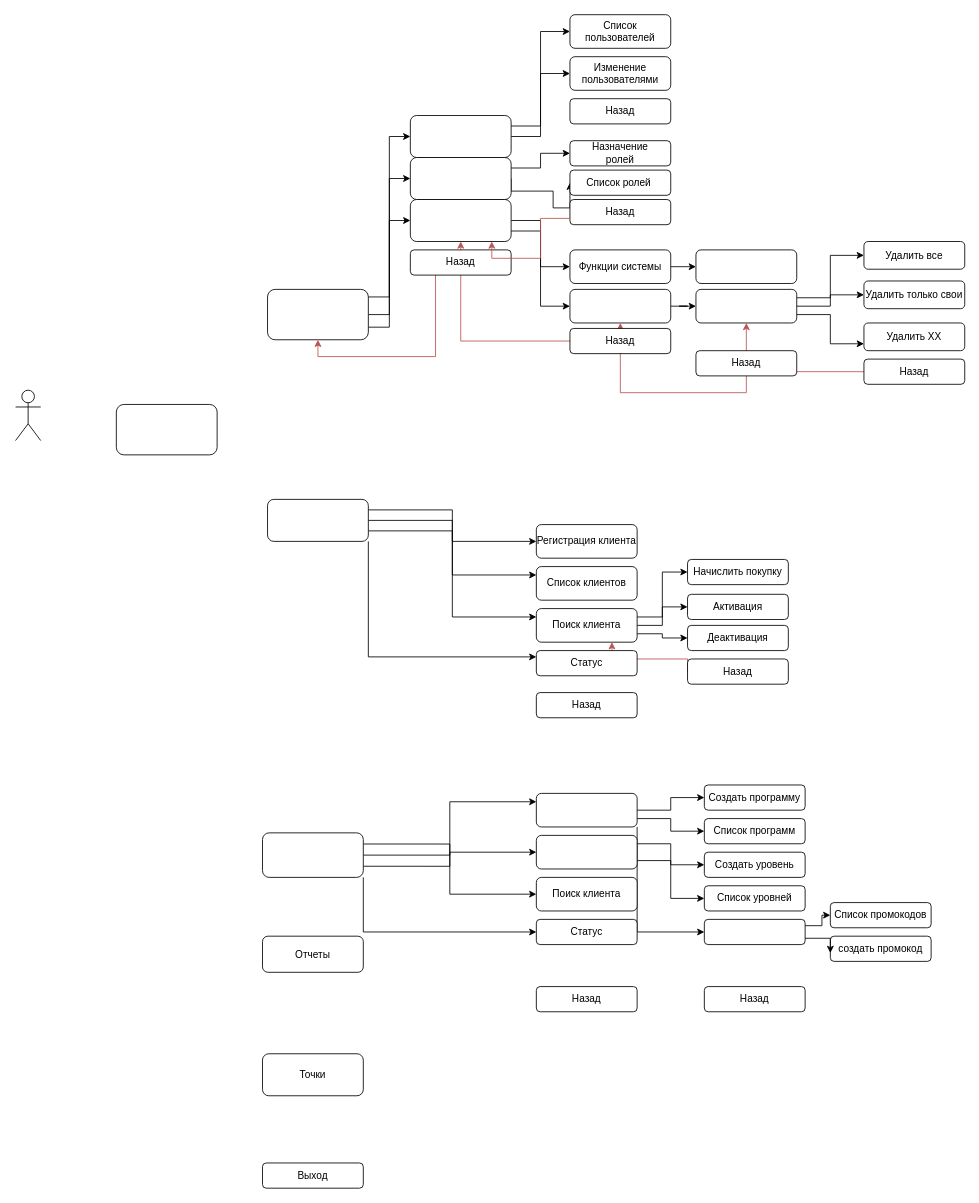
Some shapes in this 979 by 1203 pixel diagram are drawn without their labels. Here are the shapes that lost their labels. From the top down, the centre of each, then its label:
point (460, 136): Управление пользователями
point (460, 178): Управление ролями
point (460, 220): Общие настройки
point (746, 266): Активация/деактивация
point (317, 314): Администрирование
point (620, 306): Управление чатом
point (746, 306): Очистить чат
point (28, 415): admin
point (166, 429): Приветствие
point (317, 520): Клиенты
point (586, 810): Программы лояльности
point (312, 854): Бонусная система
point (586, 852): Настройка уровней
point (754, 932): Промокоды
